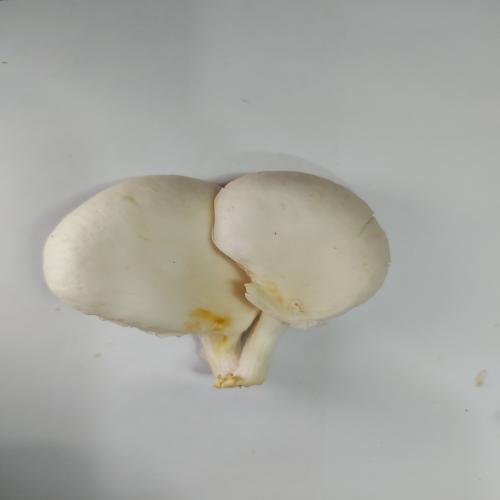Oyster Mushroom: (41, 169, 392, 389)
